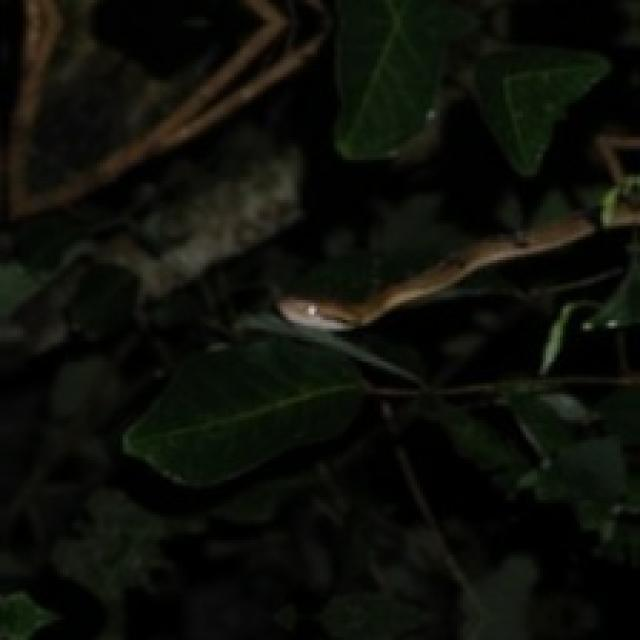dog-toothed cat snake: (277, 214, 591, 329)
